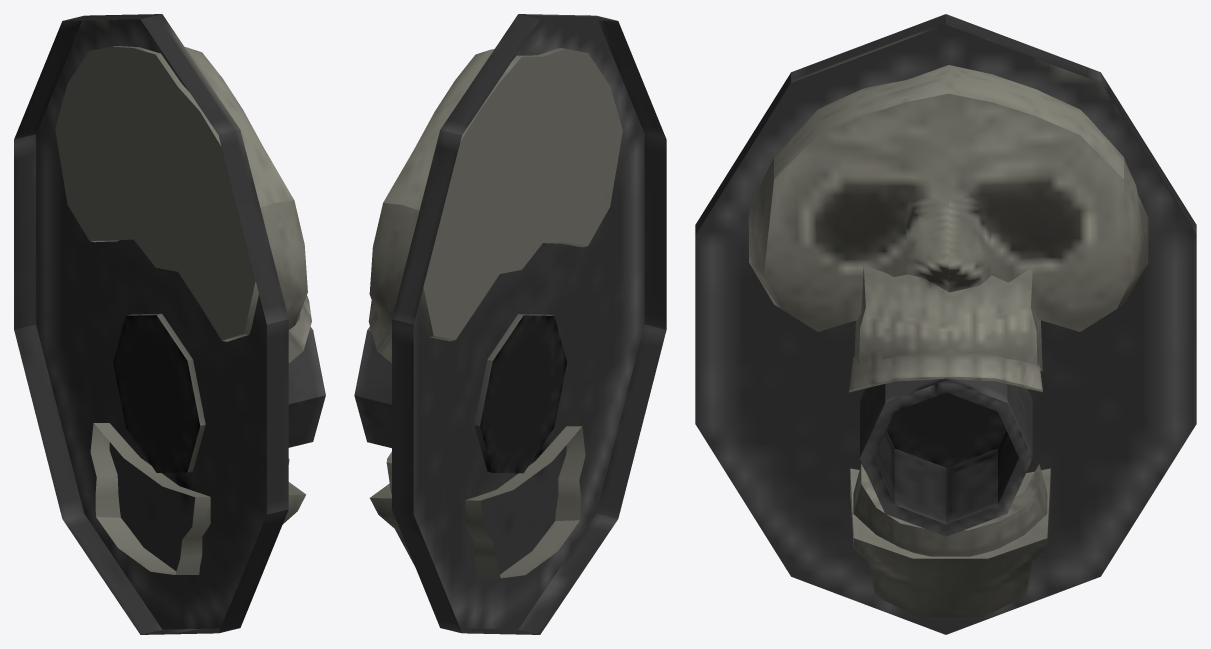
File: fireSkull_trap.fbx
3 views of the same model, side by side, from view 1: azimuth 30°, elevation 25°; view 2: azimuth 150°, elevation 25°; view 3: azimuth 270°, elevation 25° (orthographic).
Parts seen in each view (by area): view 1: pCylinder3.001; view 2: pCylinder3.001; view 3: pCylinder3.001.
Part boxes in pixels (x1=…): pCylinder3.001: x1=14, y1=14, x2=325, y2=634; pCylinder3.001: x1=354, y1=14, x2=666, y2=634; pCylinder3.001: x1=695, y1=14, x2=1196, y2=634.
Bounding box in the file's own units: 231 × 872 × 649.
